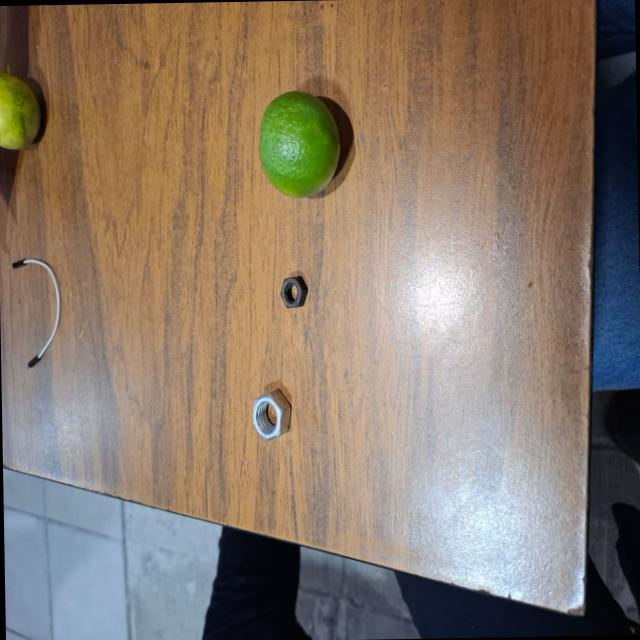limon: (252, 88, 360, 202)
milimetrico: (278, 273, 310, 310)
tuerca: (246, 383, 295, 443)
